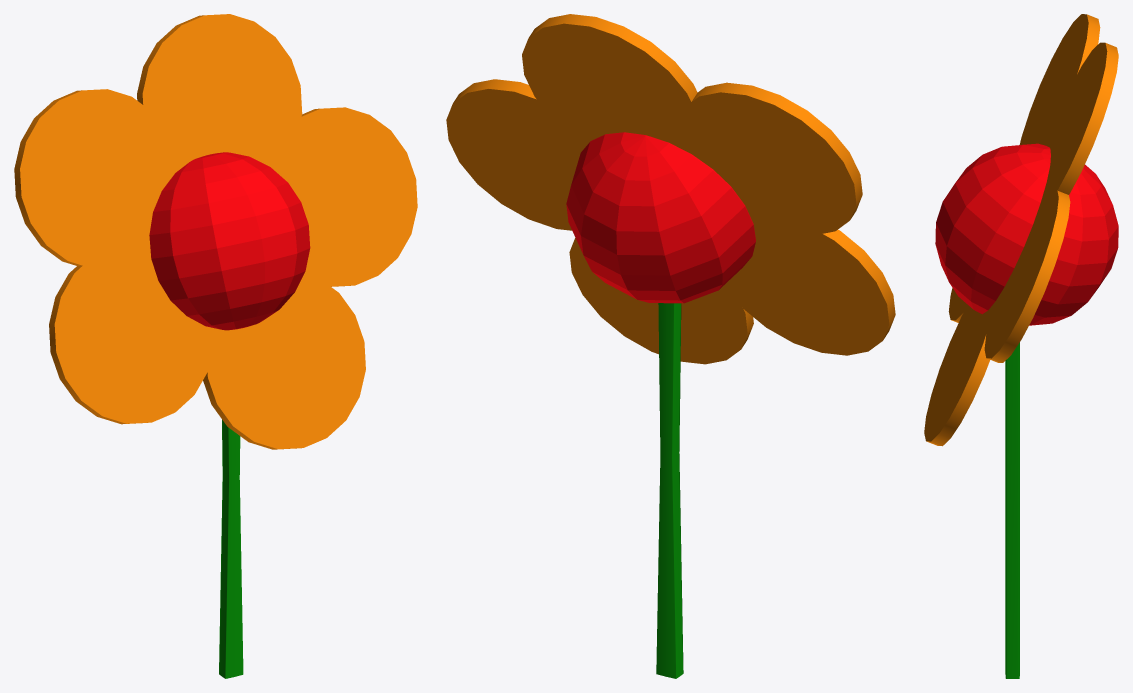
File: flor_amarilla.obj
The picture shows the model from 3 angles, left to right: view 1: azimuth 30°, elevation 25°; view 2: azimuth 150°, elevation 25°; view 3: azimuth 270°, elevation 25°; orthographic projection. The views are drawn at different scales.
Parts seen in each view (by area): view 1: polySurface12; view 2: polySurface12; view 3: polySurface12.
Part boxes in pixels (box(x1,y1,x2,y2)): polySurface12: box(14, 14, 417, 678); polySurface12: box(446, 14, 895, 678); polySurface12: box(924, 14, 1118, 678).
Bounding box in the file's own units: 1.1 × 1.71 × 0.4762.
